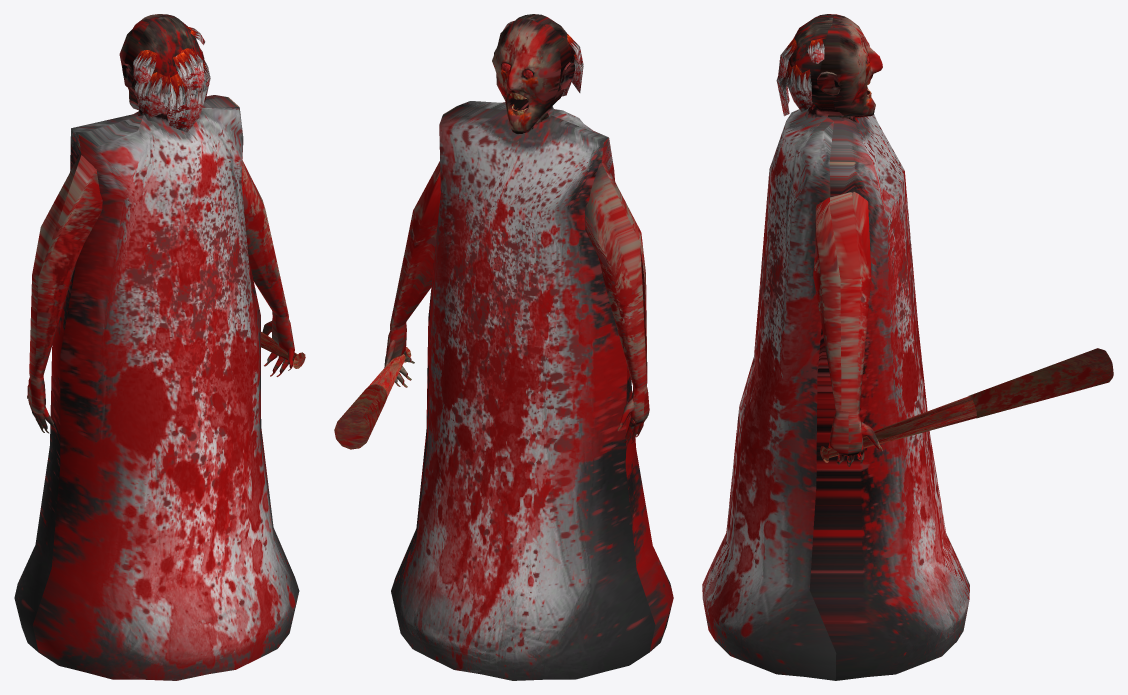
The model's file is granny_blooded_nightmare.glb.
3 renders of one model, left to right at view 1: azimuth 30°, elevation 25°; view 2: azimuth 150°, elevation 25°; view 3: azimuth 270°, elevation 25°, orthographic.
Visible parts, largest first — view 1: Object_5, Object_2, Object_4; view 2: Object_5, Object_7, Object_4, Object_2; view 3: Object_5, Object_7, Object_4, Object_2.
Part boxes in pixels (x1=…): Object_5: x1=14, y1=14, x2=299, y2=680; Object_2: x1=133, y1=26, x2=210, y2=132; Object_4: x1=261, y1=332, x2=305, y2=368; Object_5: x1=384, y1=14, x2=673, y2=680; Object_7: x1=334, y1=384, x2=387, y2=449; Object_4: x1=368, y1=347, x2=411, y2=396; Object_2: x1=502, y1=20, x2=583, y2=96; Object_5: x1=702, y1=14, x2=969, y2=680; Object_7: x1=969, y1=348, x2=1113, y2=418; Object_4: x1=820, y1=396, x2=976, y2=462; Object_2: x1=776, y1=38, x2=824, y2=116.
Bounding box in the file's own units: 0.7653 × 1.7 × 1.02.
7 materials, 6 textured.
